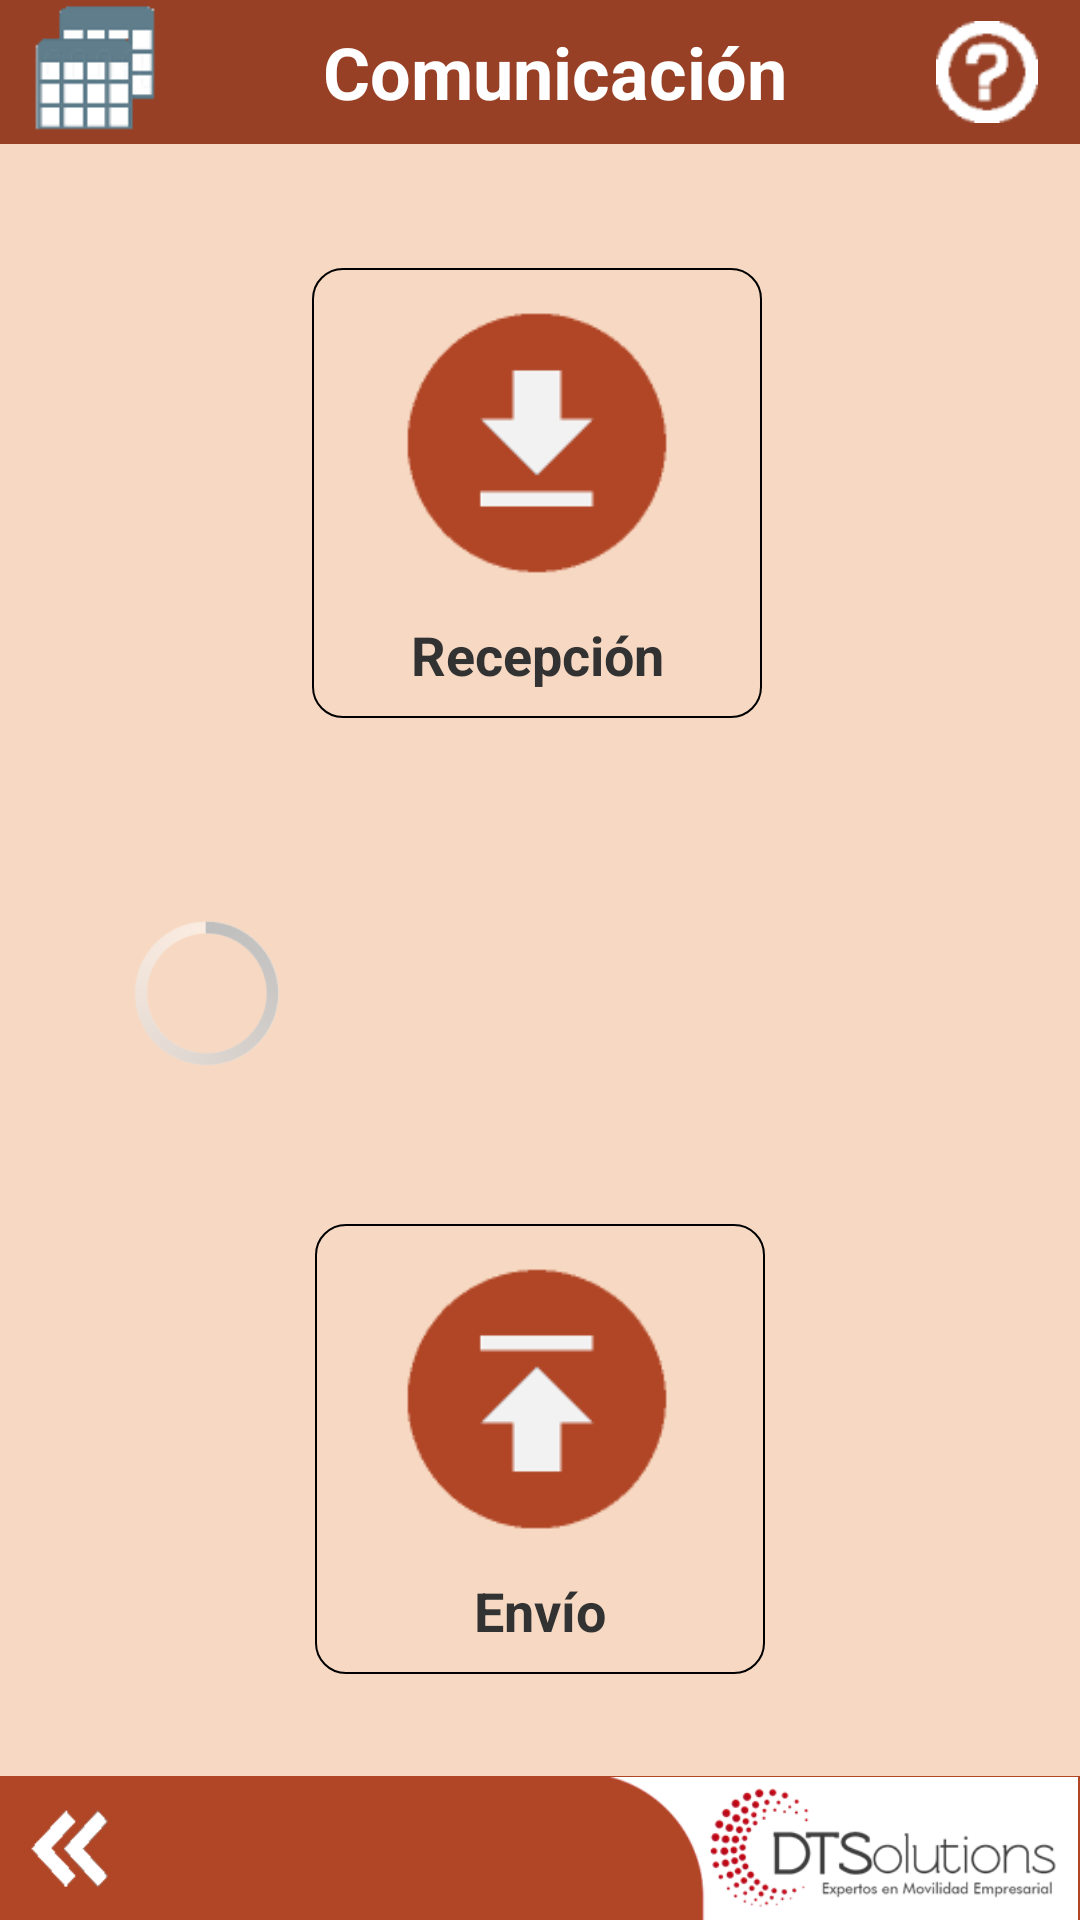

Named icons in this screenshot (1080x1920) and their centers, point (x, y):
arr prev: point (69, 1848)
download: point (537, 443)
help: point (987, 72)
tablas: point (95, 68)
upload: point (537, 1399)
